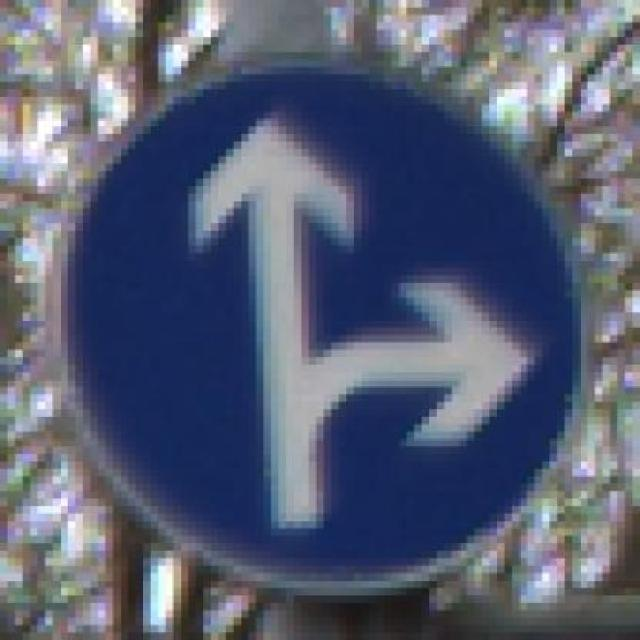Go Straight or Turn Right: (52, 59, 603, 618)
